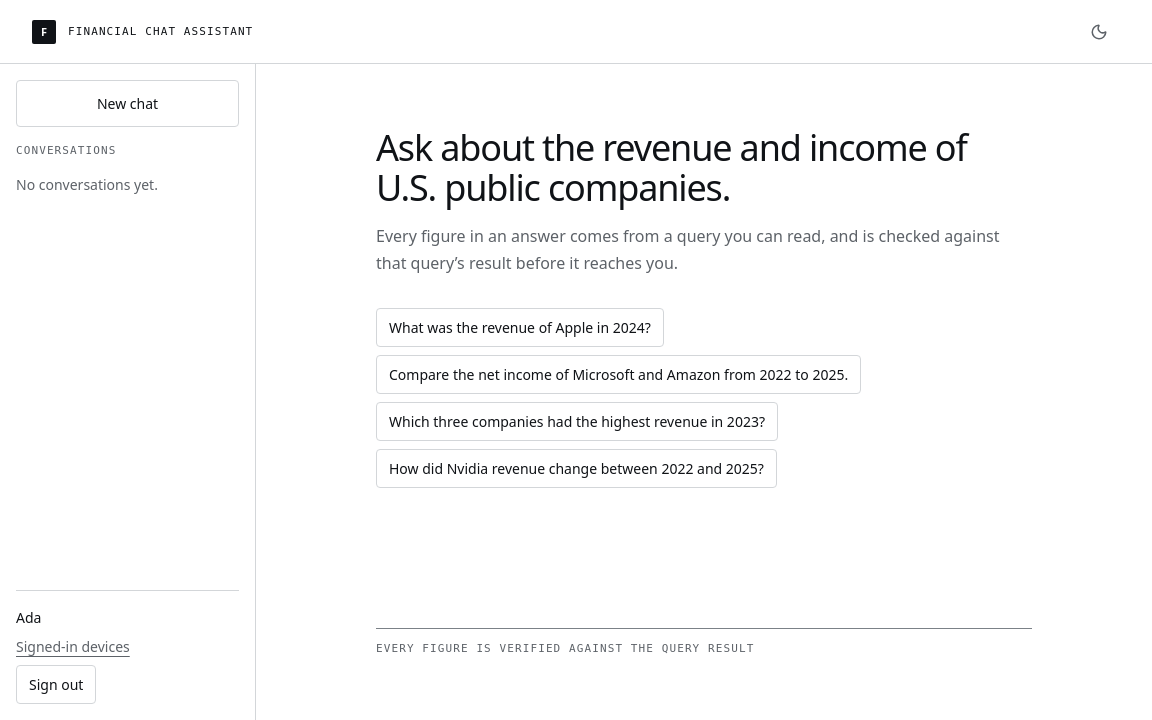
the application › reaches the list of devices from the rail
This screenshot has width=1152, height=720.
Click the link "Signed-in devices" at [73, 646], box 16,637 -> 130,656
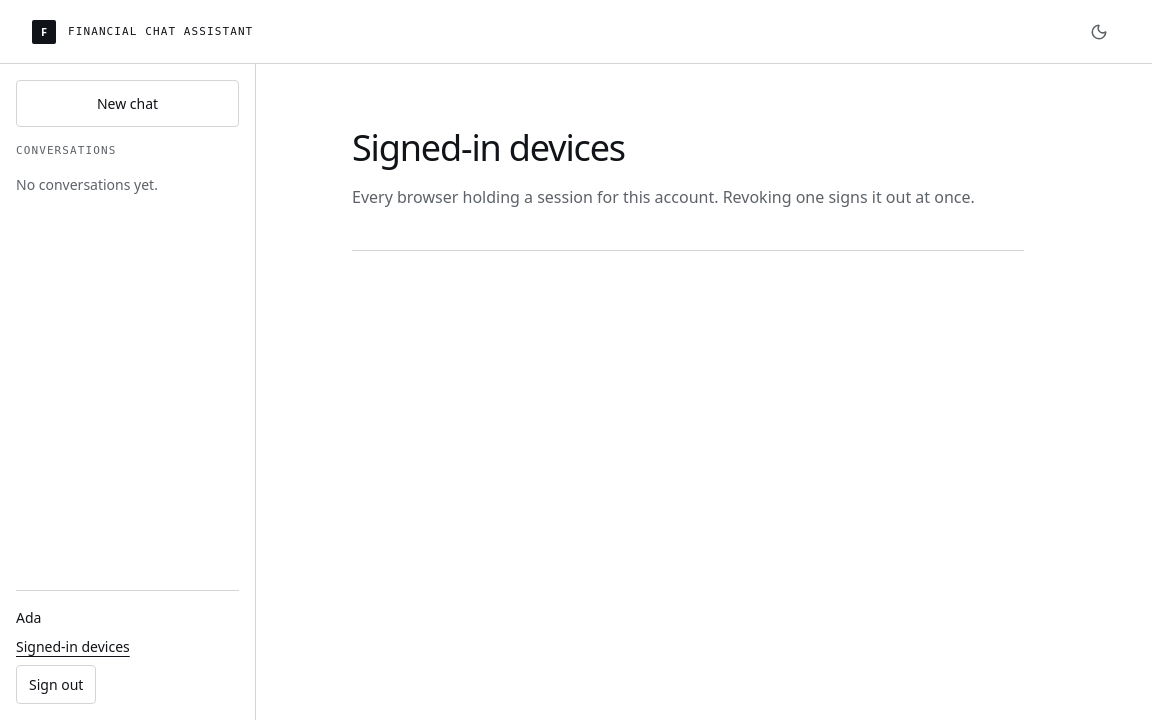
Check: the heading "Signed-in devices" is shown, box 352,123 -> 625,172
